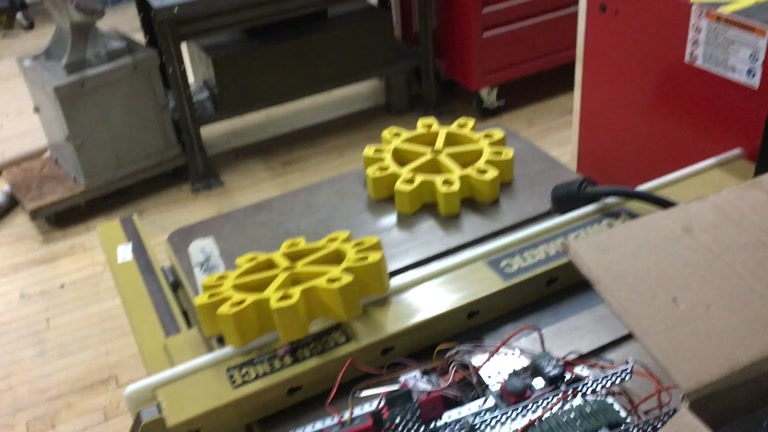gear: (191, 228, 388, 348), (361, 114, 516, 219)
